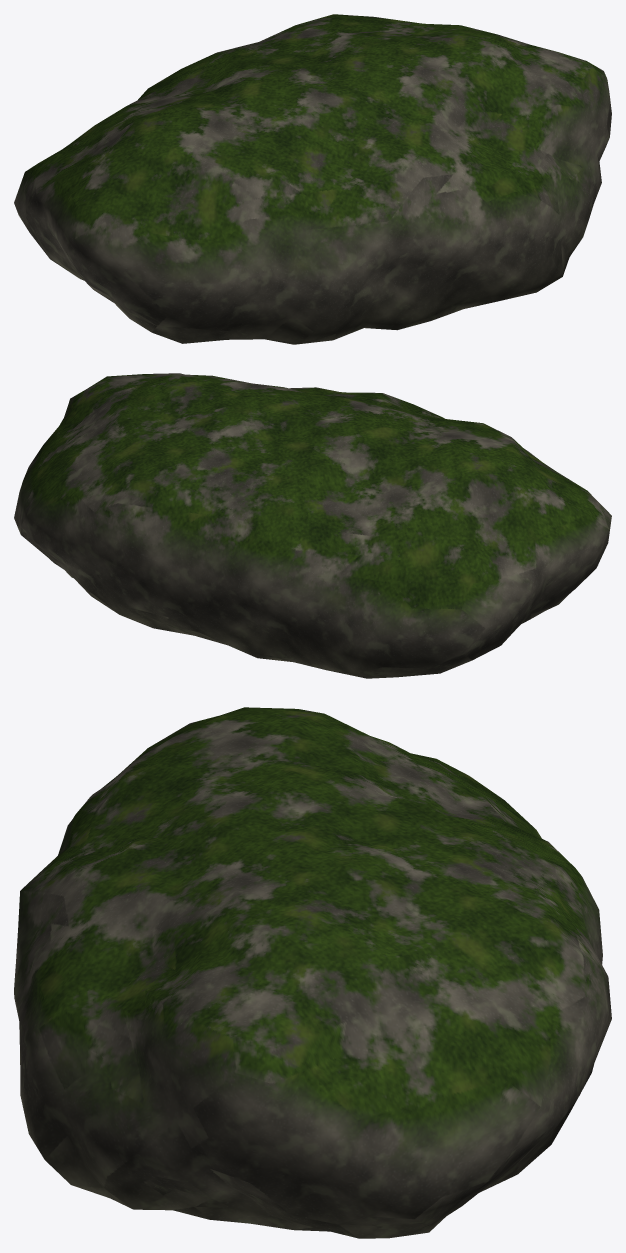
File: env_rocks.glb
3 renders of one model, top to bottom at view 1: azimuth 30°, elevation 25°; view 2: azimuth 150°, elevation 25°; view 3: azimuth 270°, elevation 25°, orthographic. The views are drawn at different scales.
Parts seen in each view (by area): view 1: ROCK_Outcrop_Mossy; view 2: ROCK_Outcrop_Mossy; view 3: ROCK_Outcrop_Mossy.
Boxes of the visible parts, x1=… form: ROCK_Outcrop_Mossy: x1=14, y1=14, x2=611, y2=344; ROCK_Outcrop_Mossy: x1=14, y1=373, x2=611, y2=678; ROCK_Outcrop_Mossy: x1=14, y1=707, x2=611, y2=1238.
Bounding box in the file's own units: 6.47 × 2.25 × 4.28.
Materials: 5 (5 with a texture image).
